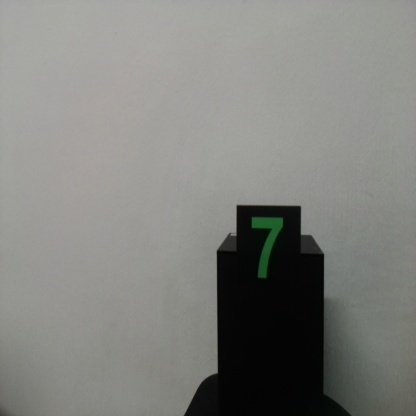id_7: (237, 206, 300, 299)
